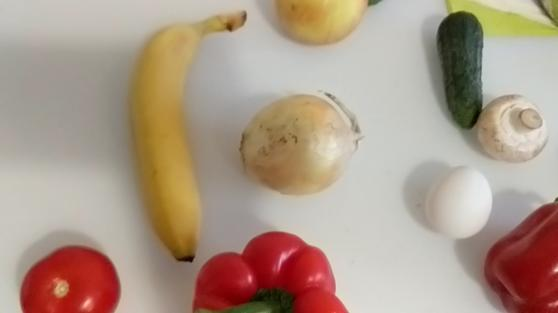banana: (129, 11, 246, 263)
champignon: (477, 93, 548, 164)
cucumber: (435, 11, 481, 128)
egg: (425, 163, 491, 239)
onion: (237, 91, 361, 196)
pepper: (191, 231, 346, 313)
tomato: (22, 245, 122, 312)
